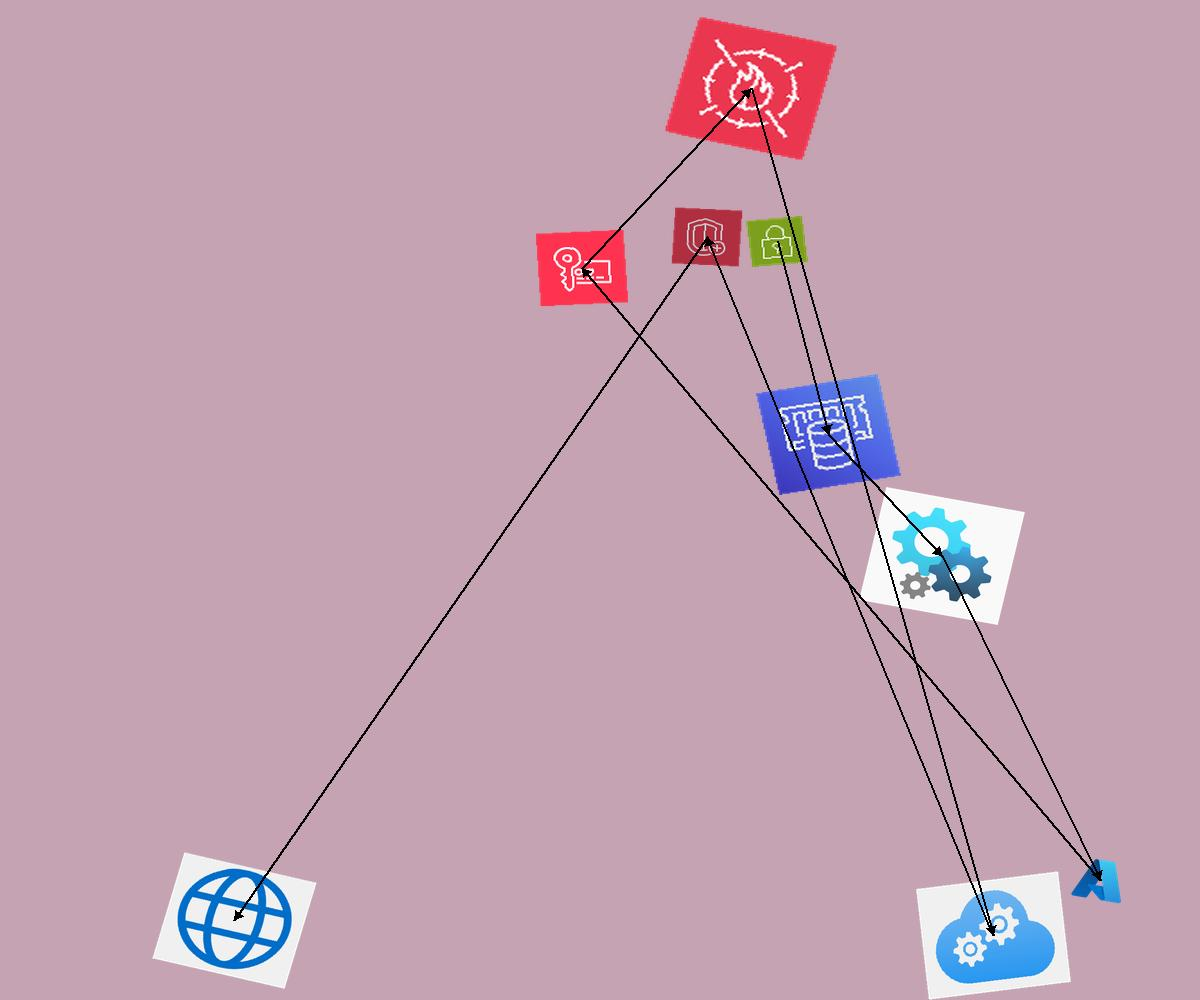AWS-ElastiCache: (756, 374, 901, 495)
AWS-Key-Management-Service: (535, 229, 629, 307)
AWS-Public-subnet: (745, 215, 809, 268)
AWS-Shield: (671, 207, 743, 267)
AWS-WAF: (664, 16, 838, 161)
Azure_api: (859, 487, 1025, 625)
Azure_cloud_services: (916, 871, 1071, 1000)
Azure_http: (152, 852, 317, 989)
Azure_services: (1068, 853, 1133, 907)
